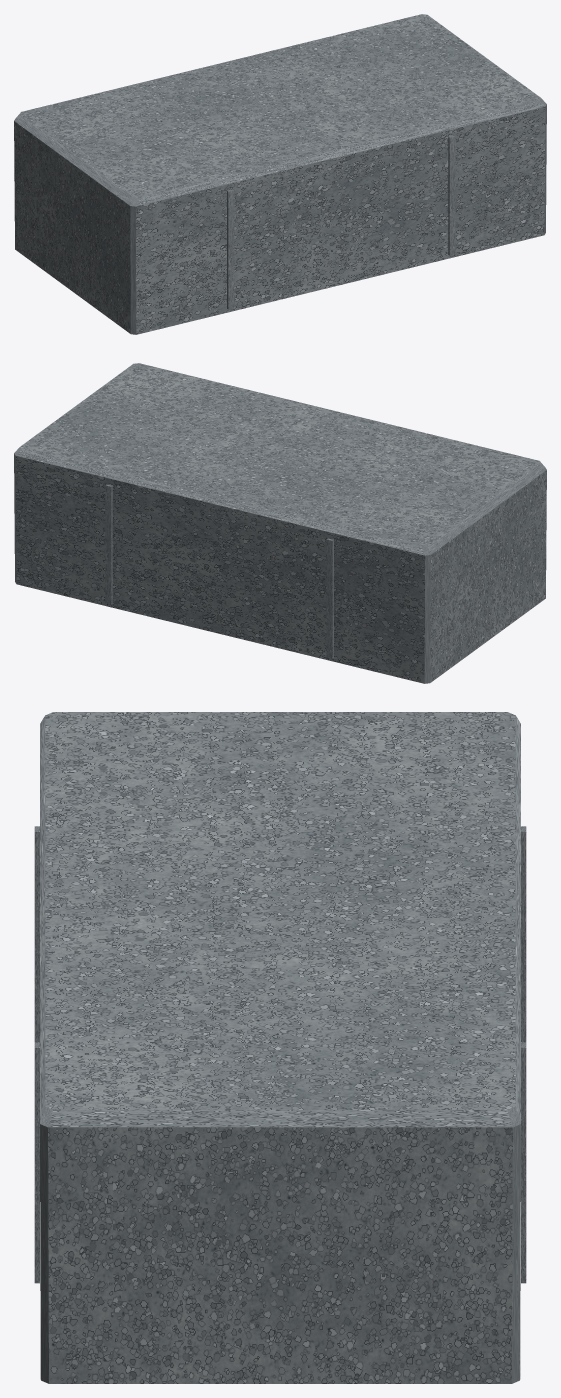
File: concrete-interlocking-paver-rectangle.glb
3 views of the same model, one above another, from view 1: azimuth 30°, elevation 25°; view 2: azimuth 150°, elevation 25°; view 3: azimuth 270°, elevation 25° (orthographic). The views are drawn at different scales.
Visible parts, largest first — view 1: concrete-interlocking-paver-rectangle; view 2: concrete-interlocking-paver-rectangle; view 3: concrete-interlocking-paver-rectangle.
Part boxes in pixels (x1,y1,x2,y2): concrete-interlocking-paver-rectangle: (14, 14, 546, 334); concrete-interlocking-paver-rectangle: (14, 363, 546, 683); concrete-interlocking-paver-rectangle: (34, 712, 526, 1383).
Size of the model in its own units: 0.2 by 0.062 by 0.1022.
1 material, 1 textured.
